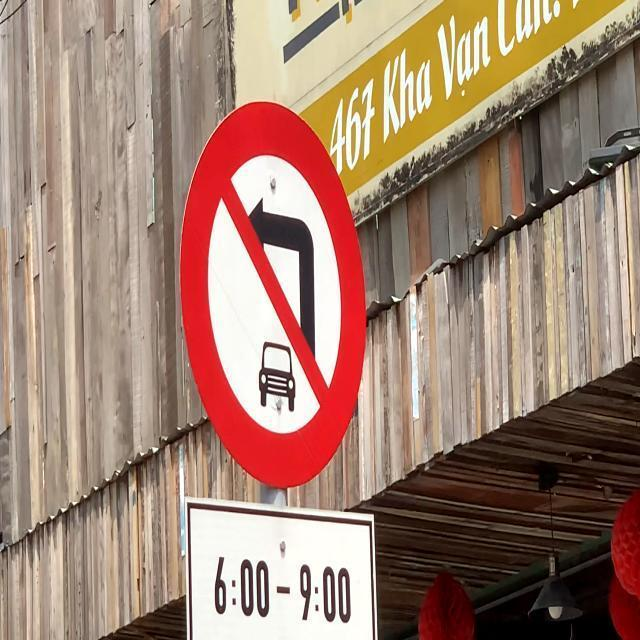123a-cam-re-trai: (181, 102, 366, 478)
